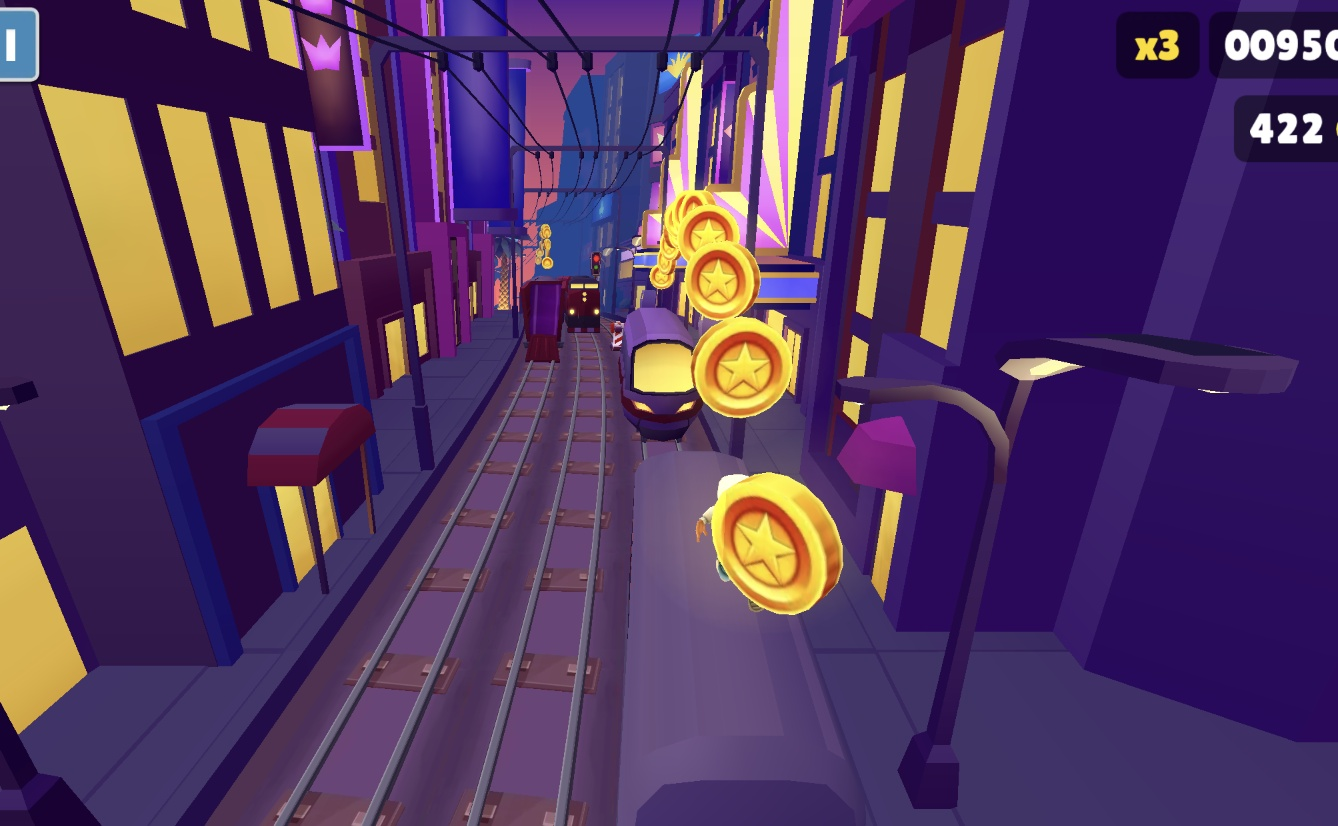ground_barrier: (554, 319, 602, 352)
train: (624, 434, 909, 826), (624, 317, 749, 434), (519, 282, 574, 359), (567, 279, 602, 334)
